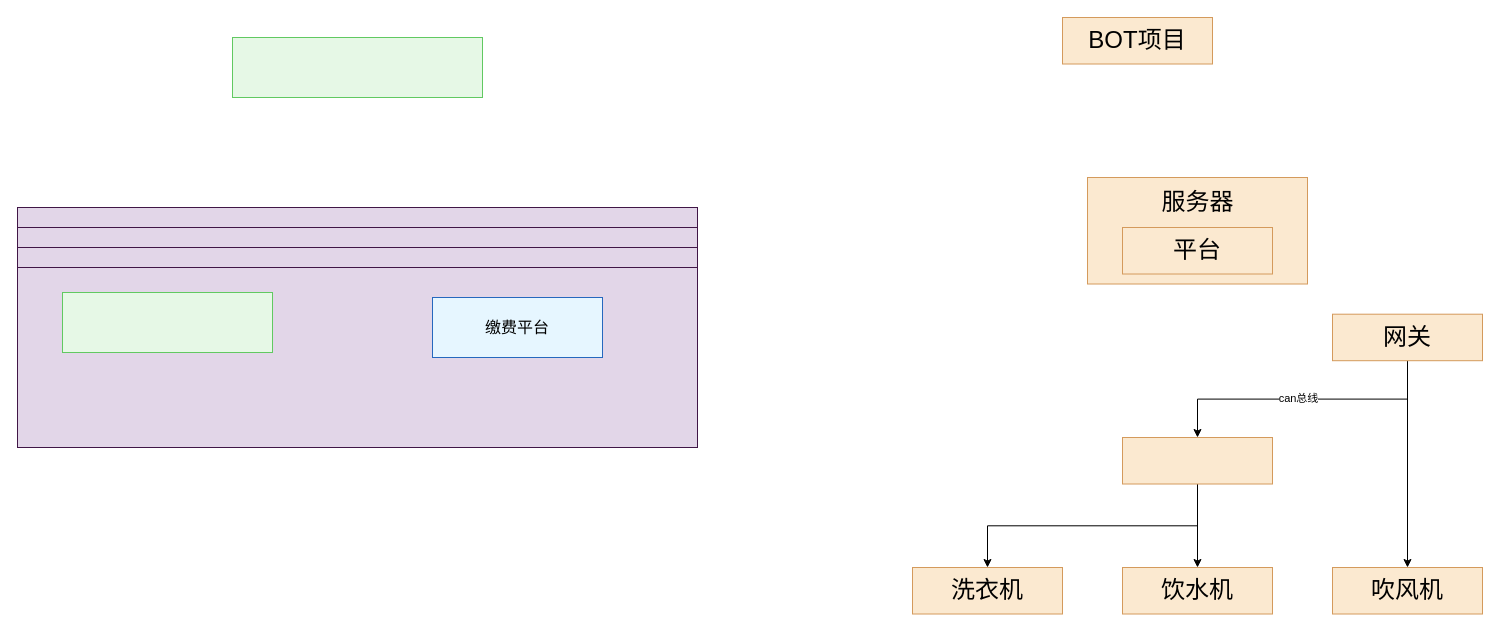
This 1500x632 diagram has some shape labels left out. The centre of each missing label's shape, as x and y in pixels:
控制器: pixel 1197 460
校园智慧生活服务综合平台: pixel 167 322
校园生活服务平台SaaS高校板: pixel 357 67
